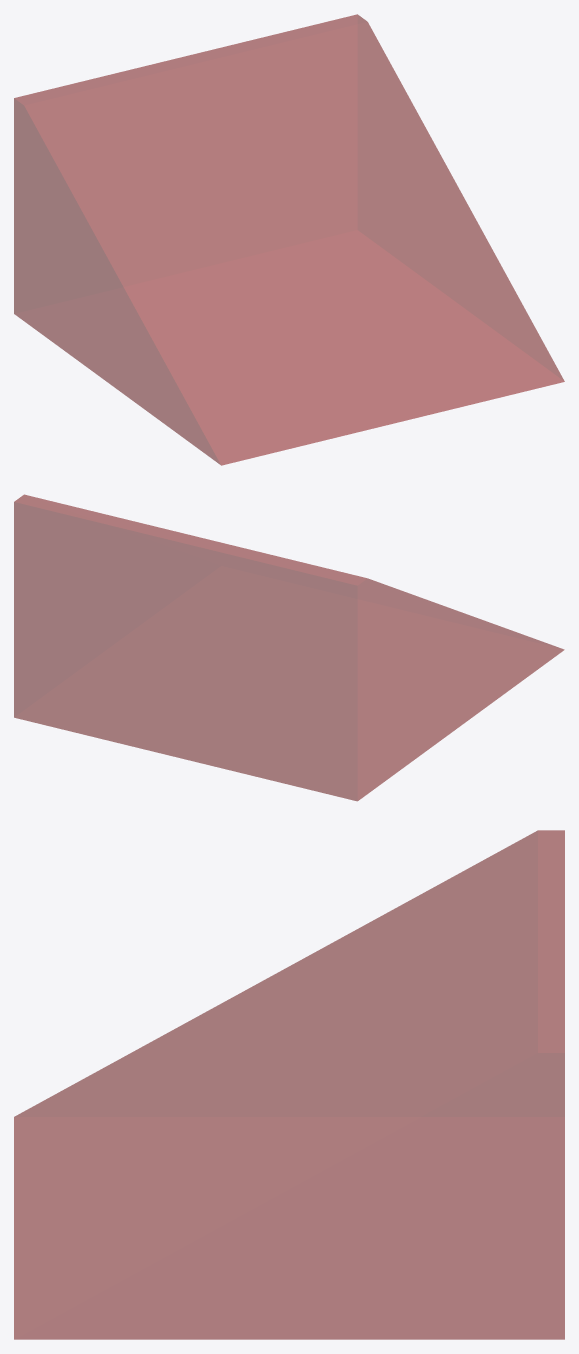
File: SM_Bld_Steps_01_Collision.fbx
3 renders of one model, top to bottom at view 1: azimuth 30°, elevation 25°; view 2: azimuth 150°, elevation 25°; view 3: azimuth 270°, elevation 25°, orthographic. The views are drawn at different scales.
Parts seen in each view (by area): view 1: SM_Bld_Steps_01_Collision; view 2: SM_Bld_Steps_01_Collision; view 3: SM_Bld_Steps_01_Collision.
Boxes of the visible parts, left/top/right/bottom form: SM_Bld_Steps_01_Collision: left=14, top=14, right=564, bottom=465; SM_Bld_Steps_01_Collision: left=14, top=494, right=564, bottom=801; SM_Bld_Steps_01_Collision: left=14, top=830, right=564, bottom=1339.
Bounding box in the file's own units: 250 × 150 × 261.
